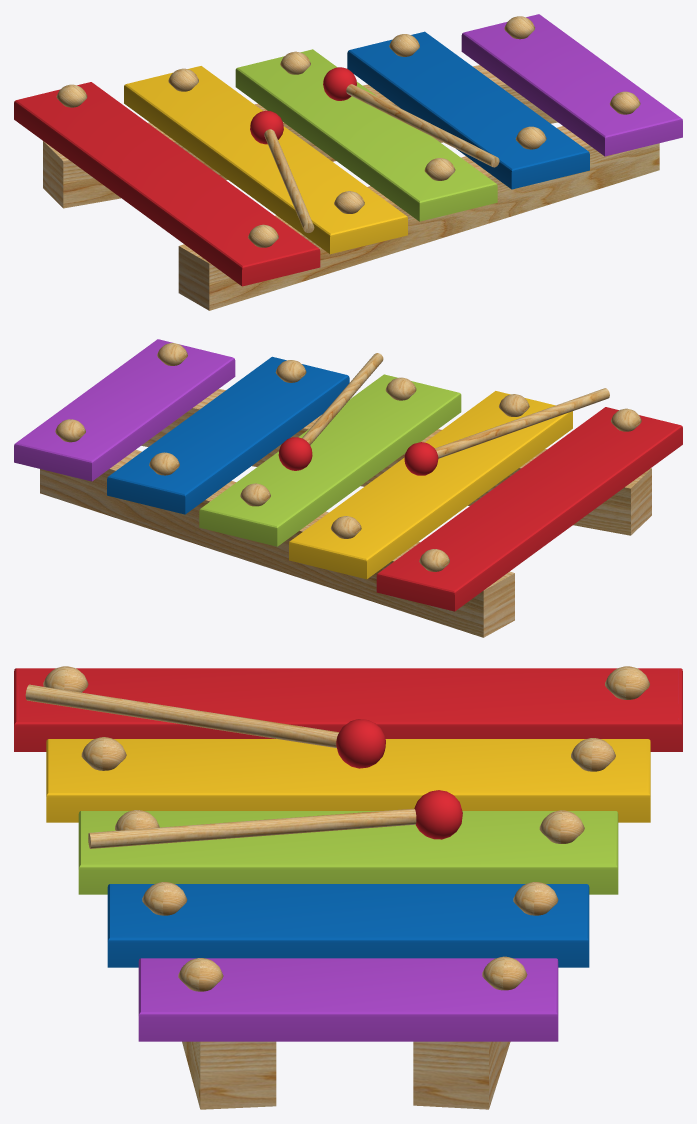
File: Xilofono.FBX
3 views of the same model, one above another, from view 1: azimuth 30°, elevation 25°; view 2: azimuth 150°, elevation 25°; view 3: azimuth 270°, elevation 25° (orthographic). The views are drawn at different scales.
Visible parts, largest first — view 1: xilofono, utensil 2, utensil 1; view 2: xilofono, utensil 1, utensil 2; view 3: xilofono, utensil 2, utensil 1.
Part boxes in pixels (<box>): xilofono: <box>14,14,682,310</box>; utensil 2: <box>323,67,499,167</box>; utensil 1: <box>250,110,314,232</box>; xilofono: <box>14,339,682,637</box>; utensil 1: <box>404,388,609,475</box>; utensil 2: <box>278,353,383,470</box>; xilofono: <box>14,666,682,1109</box>; utensil 2: <box>88,790,462,848</box>; utensil 1: <box>25,684,385,768</box>.
Size of the model in its own units: 40.81 by 7.99 by 32.98.
